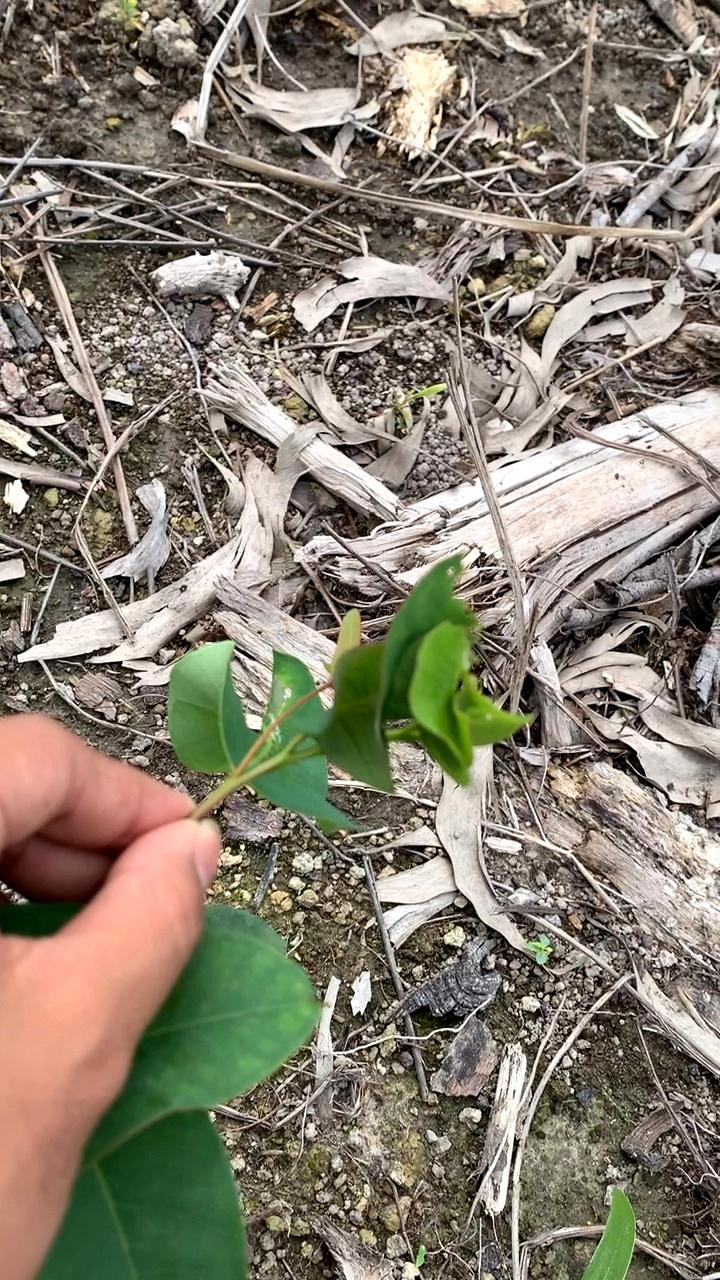Leaf Roller - Leaf: (273, 536, 540, 854)
